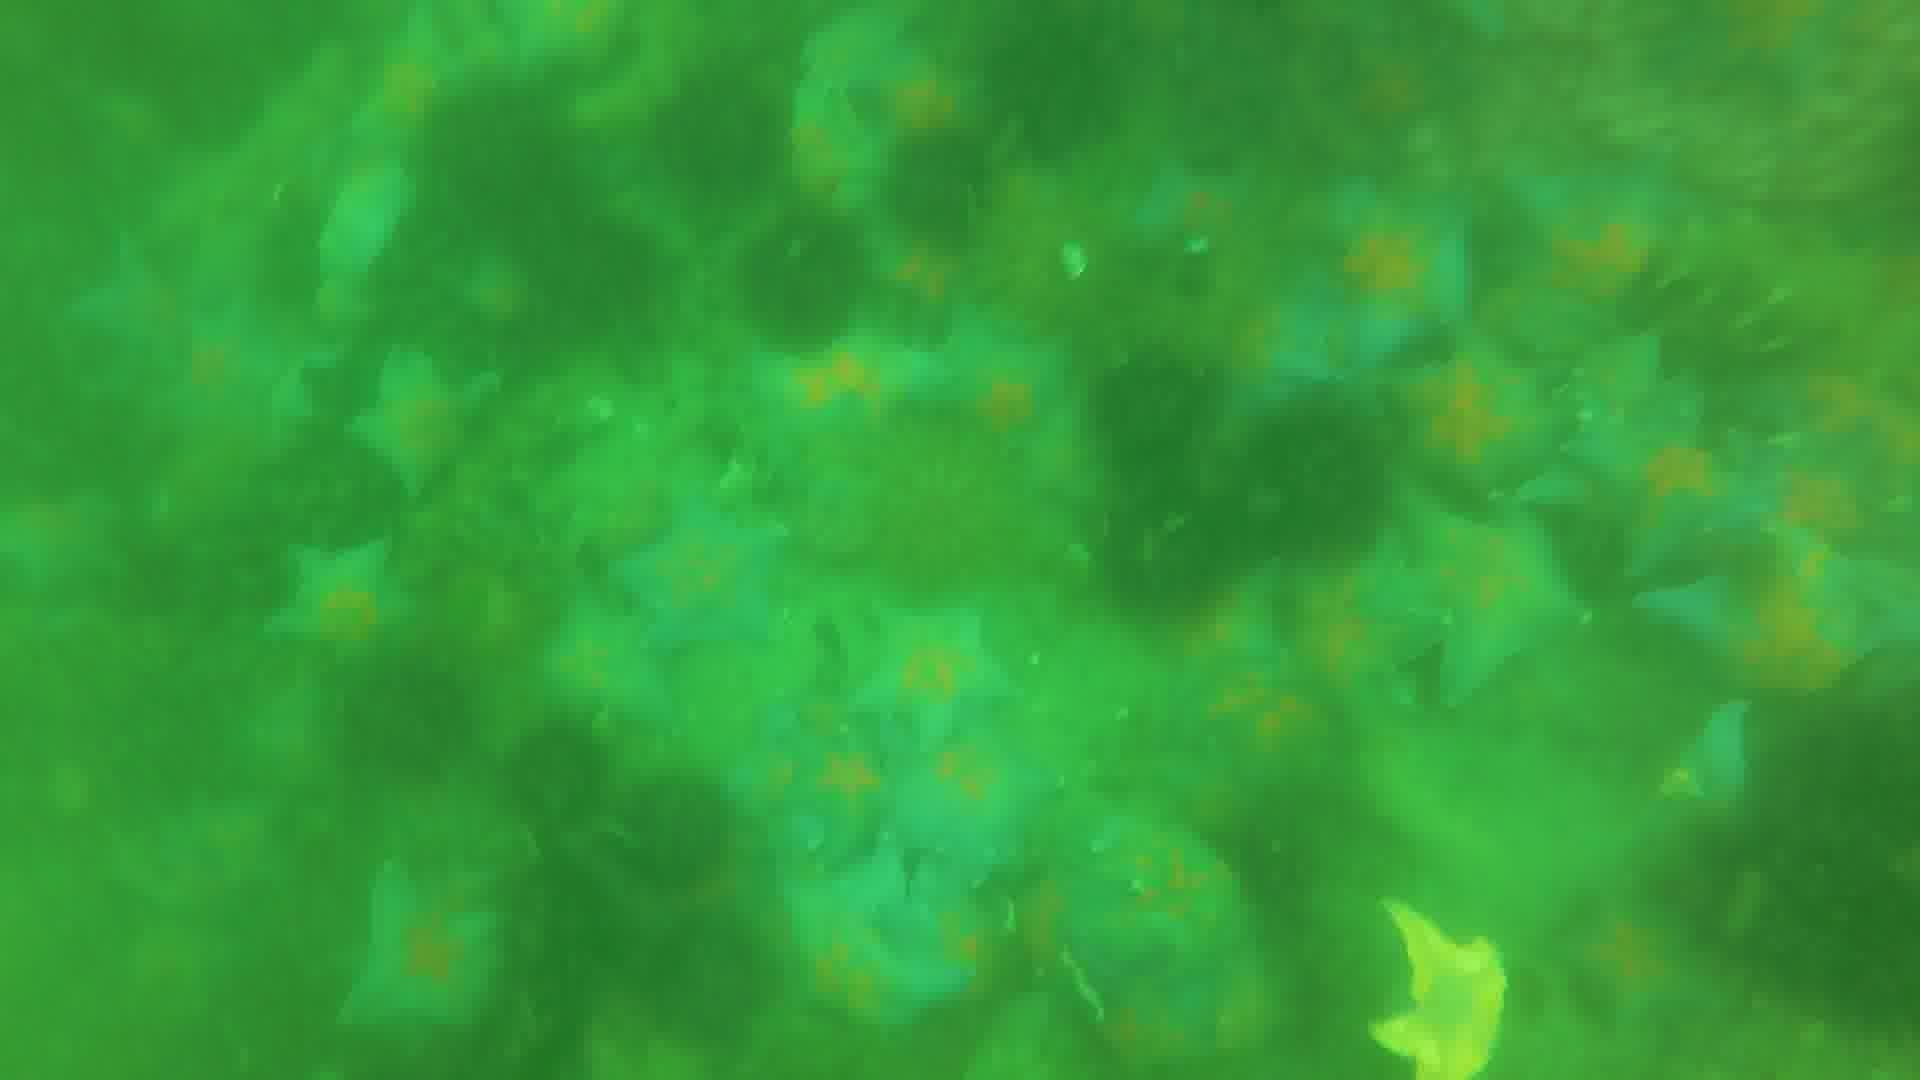echinus: (414, 65, 572, 216), (1244, 411, 1390, 571), (1091, 492, 1247, 617), (738, 210, 873, 347), (535, 206, 667, 332), (653, 918, 761, 1068), (651, 54, 771, 189), (978, 41, 1122, 149), (1087, 359, 1207, 480), (351, 669, 464, 783), (624, 779, 735, 885), (891, 137, 1001, 241), (516, 727, 605, 804)
holothurian: (1640, 208, 1890, 347)
starfish: (1640, 537, 1920, 705), (1050, 785, 1253, 1004), (1557, 384, 1774, 585), (1386, 506, 1596, 708), (794, 843, 975, 1043), (343, 860, 509, 1033), (1315, 204, 1487, 357), (1393, 332, 1557, 492), (609, 506, 785, 654), (893, 723, 1058, 880), (1563, 899, 1739, 1040), (1377, 909, 1519, 1080), (848, 603, 1010, 750), (1513, 156, 1643, 318), (760, 326, 923, 454), (248, 549, 418, 669), (117, 807, 298, 918), (905, 311, 1072, 426), (353, 351, 477, 496), (1218, 299, 1342, 440), (771, 709, 887, 845), (309, 167, 407, 310), (1168, 571, 1288, 688), (181, 305, 278, 440), (73, 264, 185, 380), (1672, 712, 1762, 856), (15, 483, 127, 593), (851, 50, 982, 135), (547, 632, 661, 716), (1153, 170, 1244, 239)
